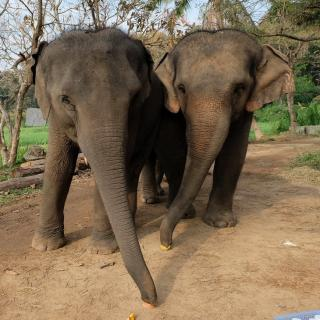Elephant: (23, 25, 168, 313), (148, 26, 298, 255)
